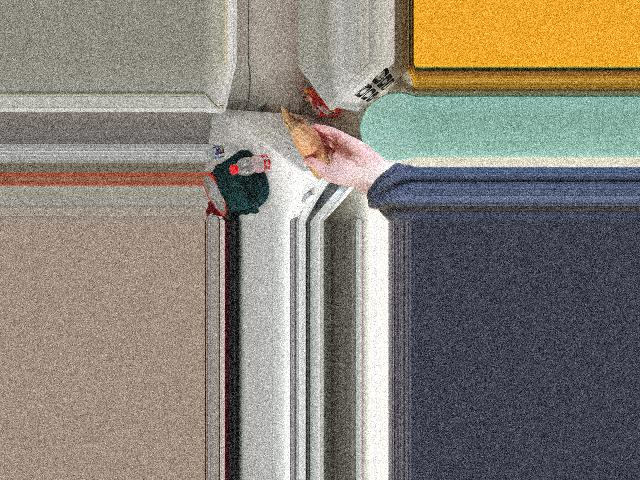sweet_potato: (290, 126, 335, 172)
